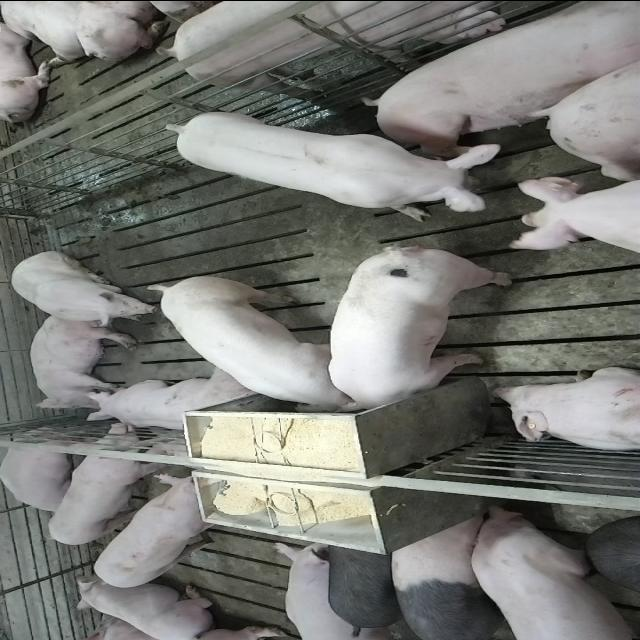Feeding: (327, 249, 518, 420), (142, 272, 356, 410)
Lateral_lying: (367, 0, 640, 144), (28, 312, 138, 409)
Sitting: (7, 250, 159, 325)
Standing: (165, 107, 508, 220), (168, 0, 518, 99), (464, 504, 640, 638), (388, 512, 524, 638), (92, 472, 228, 589), (44, 422, 162, 545), (508, 170, 638, 258), (323, 532, 411, 634)
Sternal_lying: (490, 365, 640, 453), (86, 369, 262, 434), (72, 578, 220, 638), (2, 434, 86, 514)
